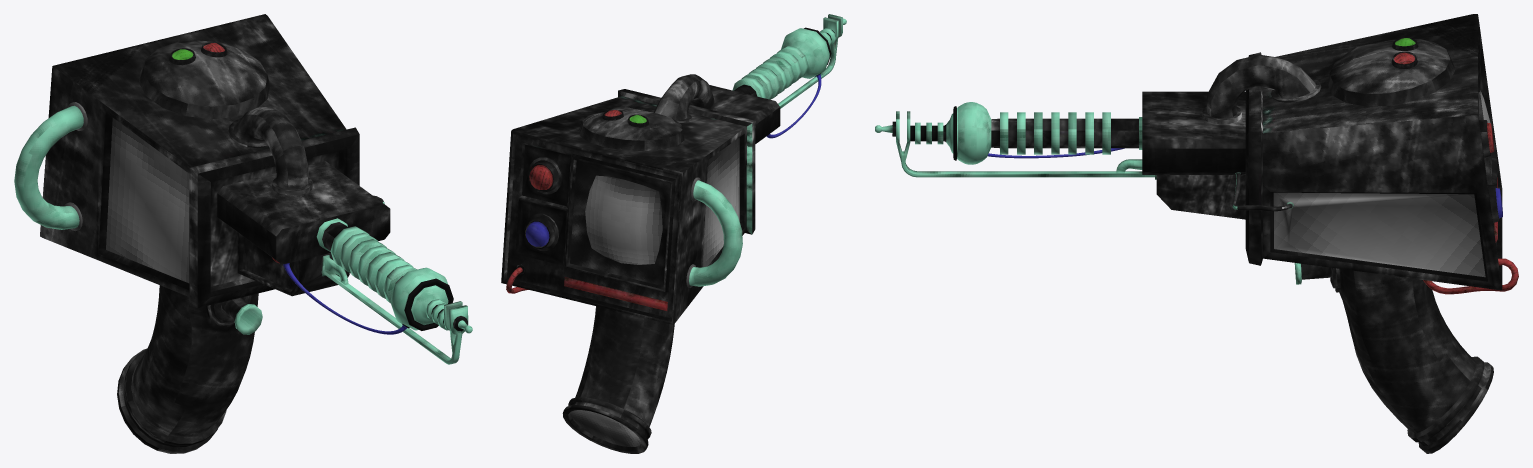
Rendered from Gun.glb.
3 renders of one model, left to right at view 1: azimuth 30°, elevation 25°; view 2: azimuth 150°, elevation 25°; view 3: azimuth 270°, elevation 25°, orthographic. The views are drawn at different scales.
Parts seen in each view (by area): view 1: Cube.042; view 2: Cube.042; view 3: Cube.042.
Part boxes in pixels (x1=…): Cube.042: x1=14, y1=14, x2=472, y2=453; Cube.042: x1=501, y1=14, x2=846, y2=453; Cube.042: x1=875, y1=14, x2=1518, y2=453.
Bounding box in the file's own units: 1 × 1.48 × 2.15.
1 material, 1 textured.
